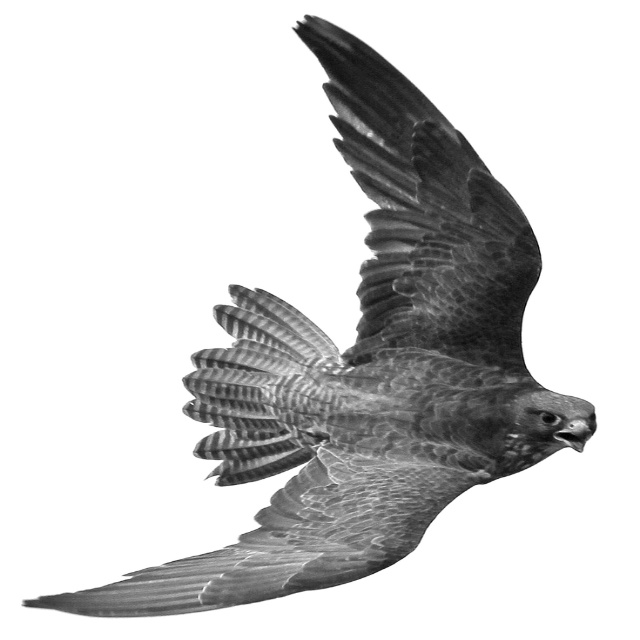Eagle: (16, 12, 599, 624)
